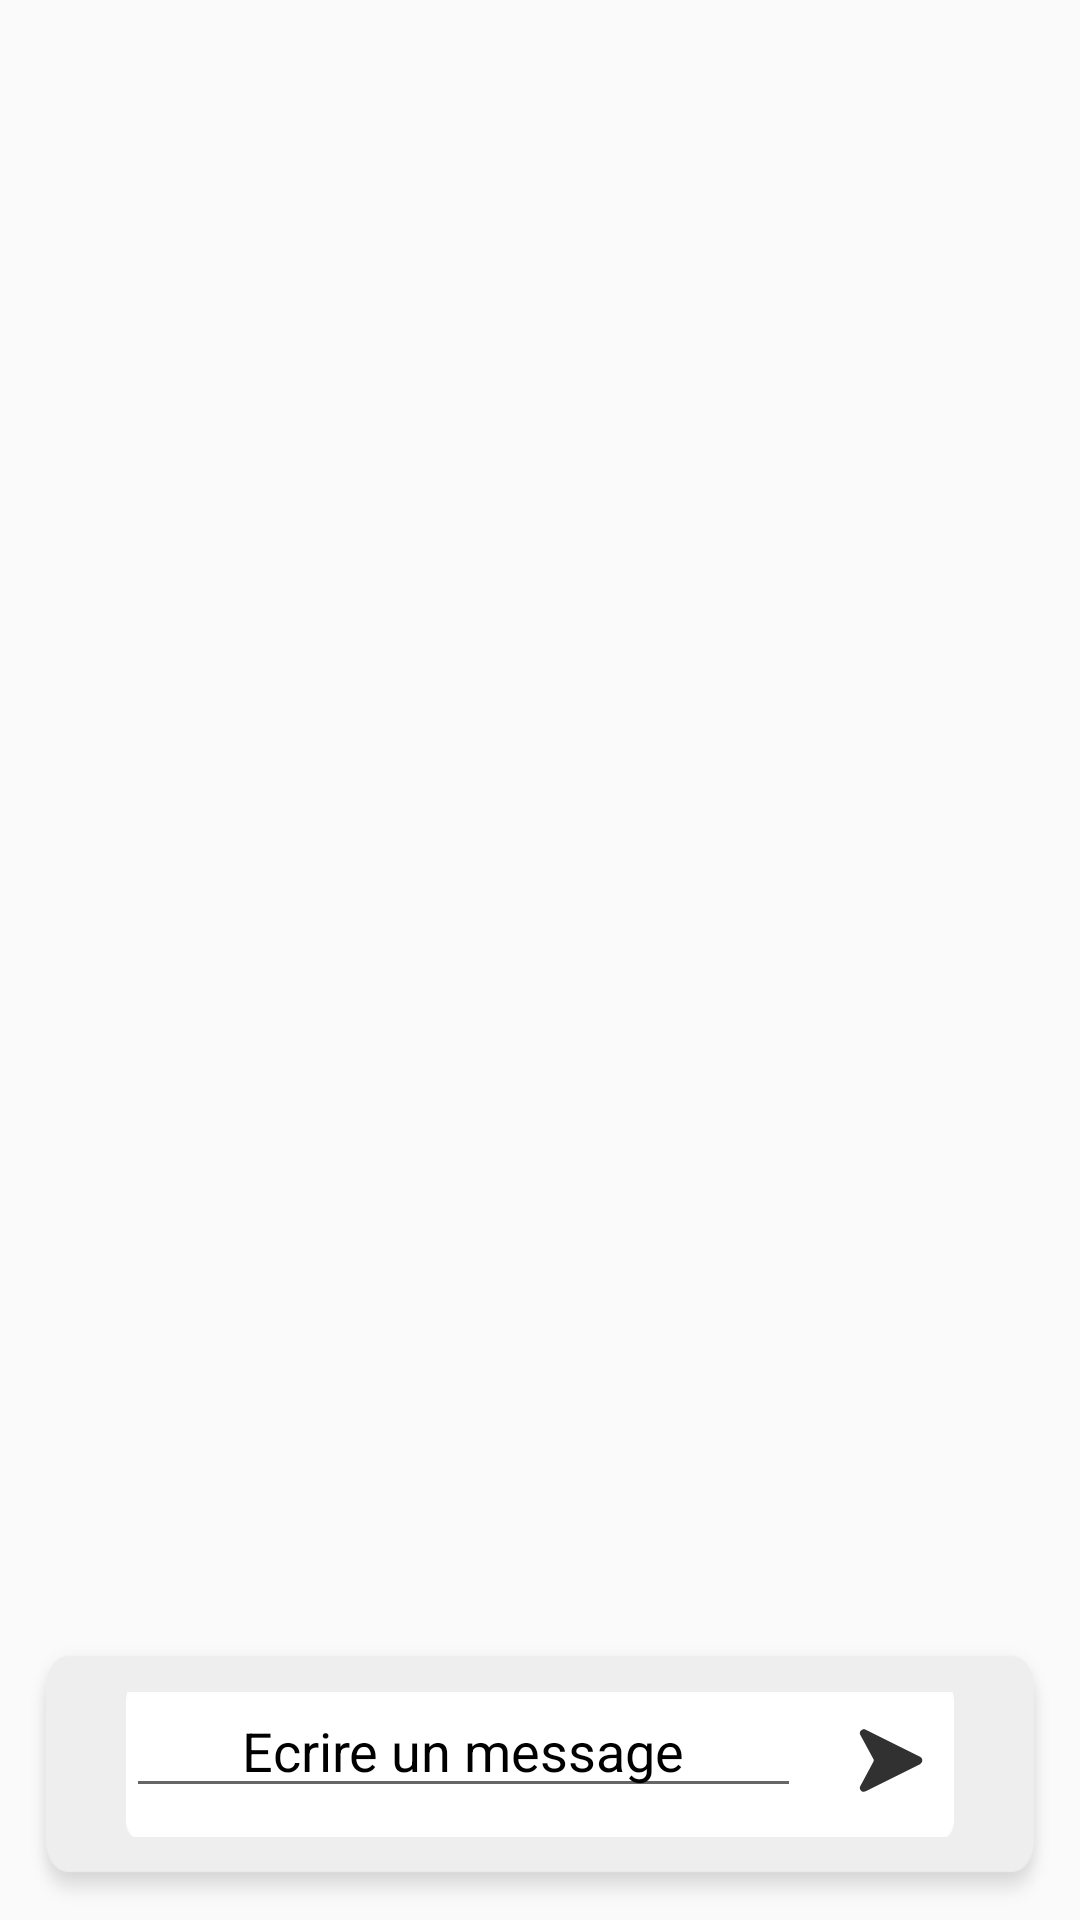

Point at icon controls on the screen. Image size 1080×1920, points as [x,y].
envoyer le message: [877,1764]
